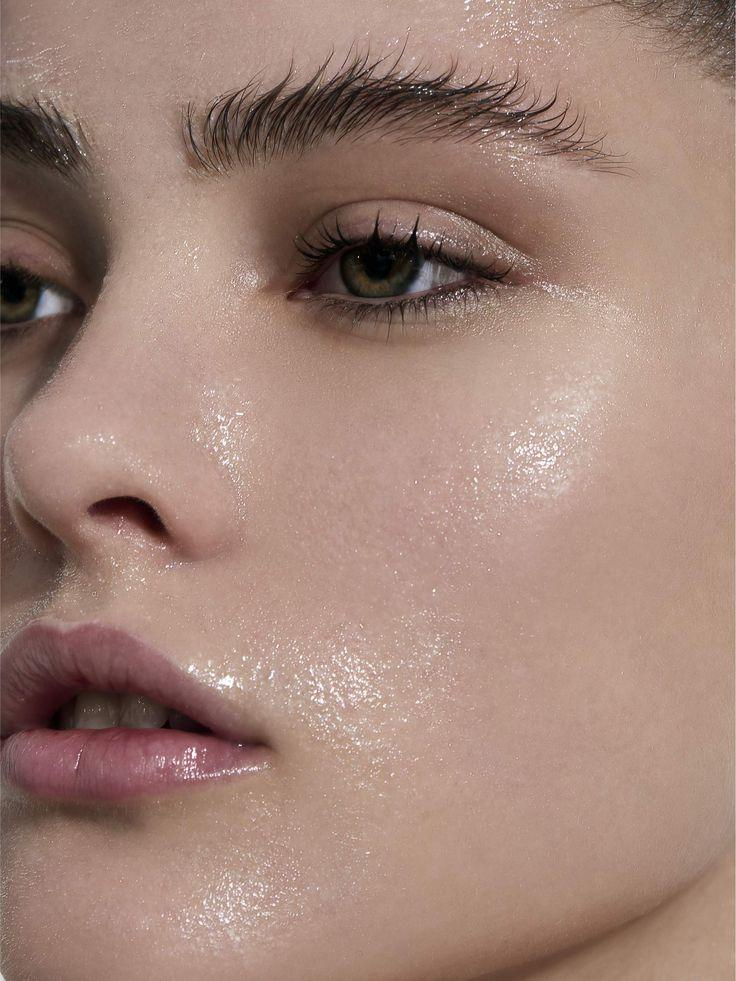Oily-Skin: (188, 642, 408, 748), (528, 382, 655, 510), (458, 15, 583, 75), (212, 405, 322, 458)
